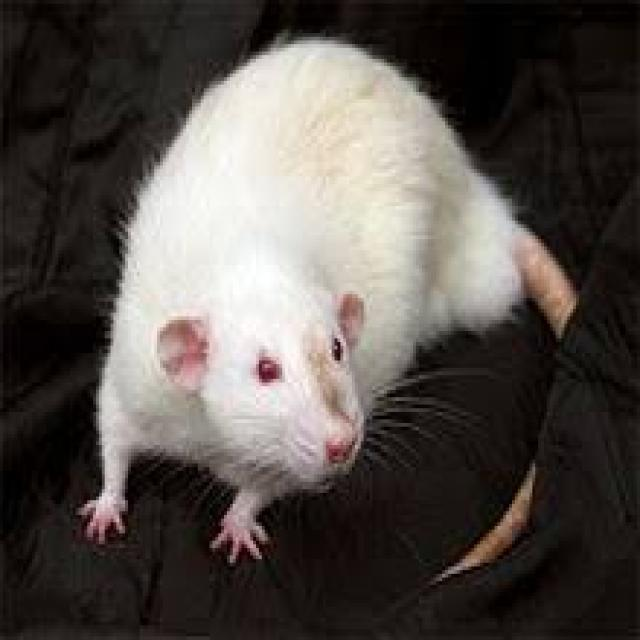Rat: (66, 46, 559, 578)
